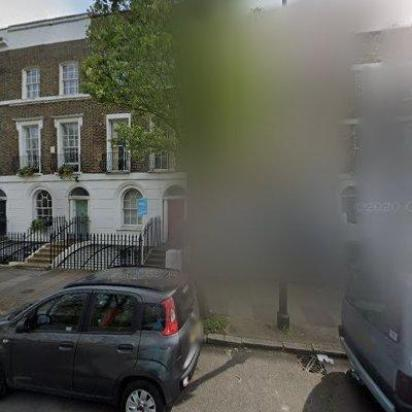stationary-car-onstreet: (0, 262, 206, 412)
stationary-light-truck-onstreet: (338, 196, 412, 412)
